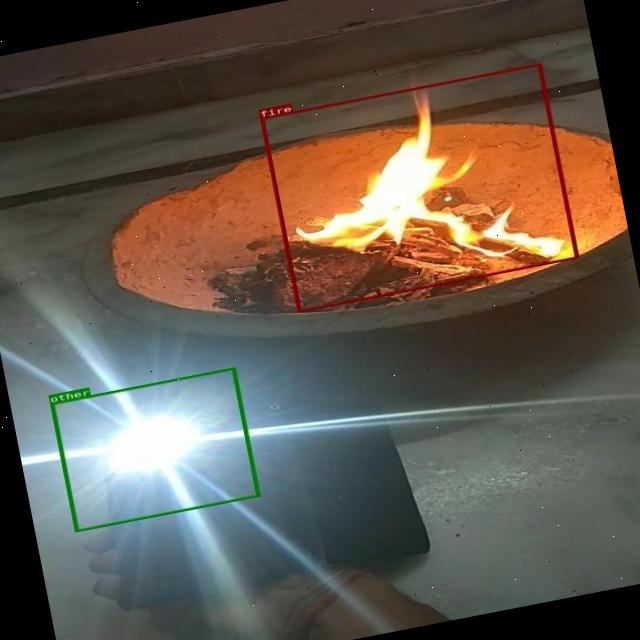fire: (259, 64, 578, 312)
